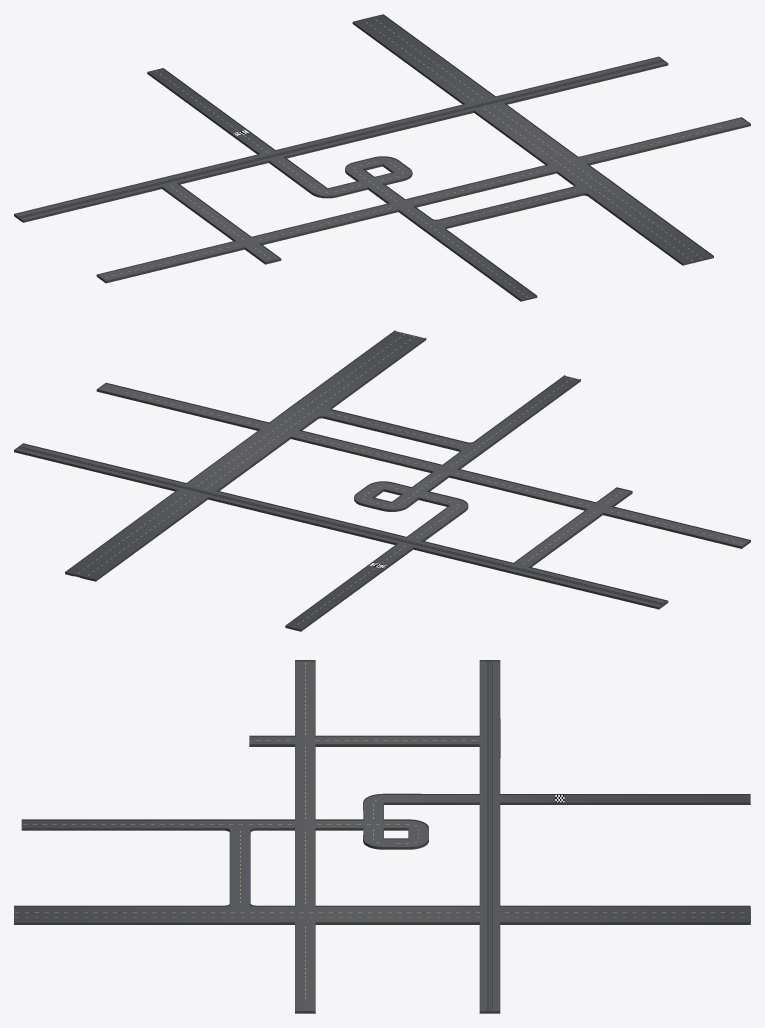
File: Level4Finaly.fbx
The picture shows the model from 3 angles, top to bottom: view 1: azimuth 30°, elevation 25°; view 2: azimuth 150°, elevation 25°; view 3: azimuth 270°, elevation 25°; orthographic projection. The views are drawn at different scales.
Parts seen in each view (by area): view 1: Levl4; view 2: Levl4; view 3: Levl4.
Part boxes in pixels (x1,y1,x2,y2): Levl4: [14, 14, 750, 301]; Levl4: [14, 330, 750, 631]; Levl4: [14, 660, 750, 1013].
Size of the model in its own units: 12946 by 43.58 by 11481.
